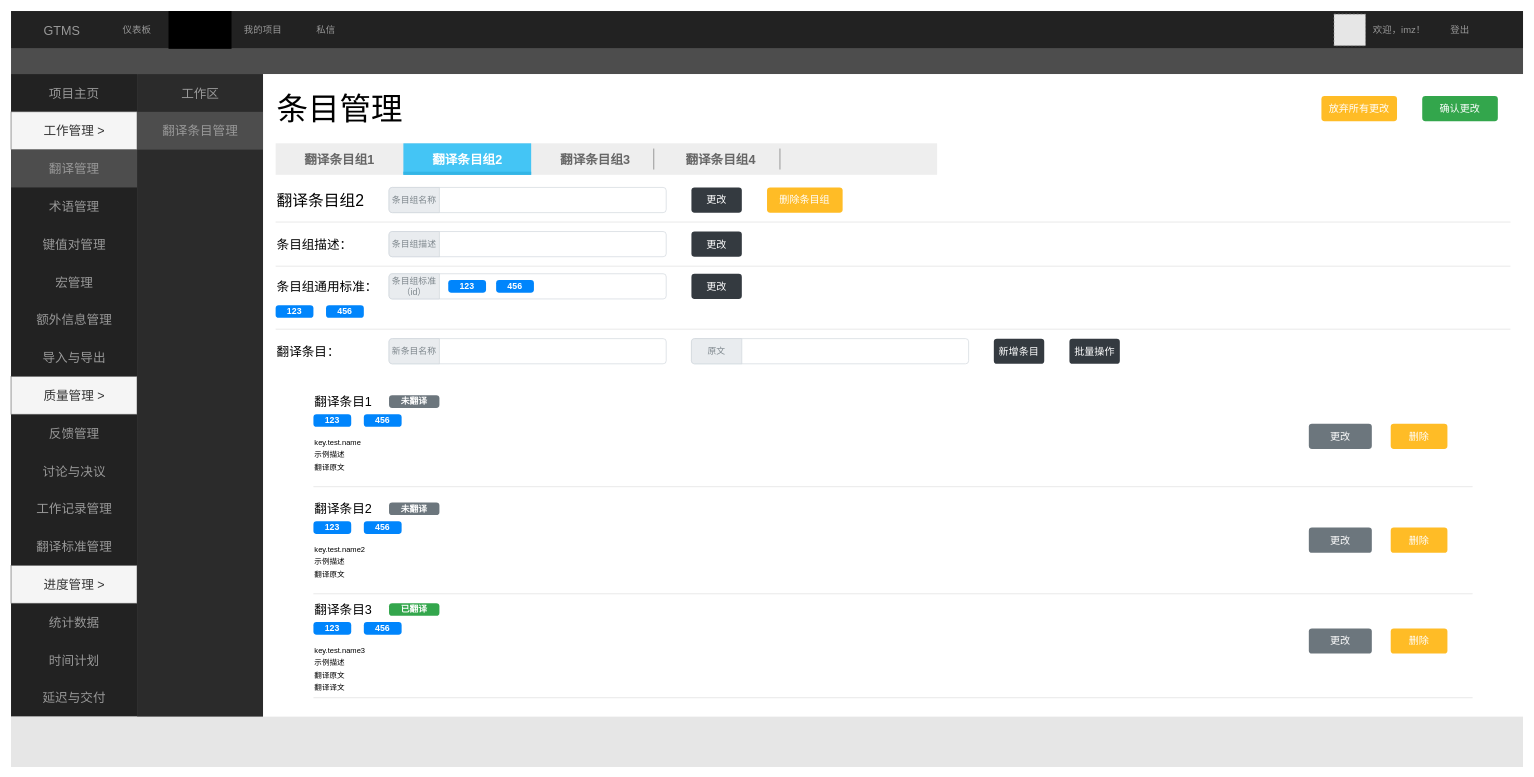
This 1534x777 diagram has some shape labels left out. Grey dashed boxes stand in for pictures. Here are the shapes that lost their labels. From the top down, the centre of each, then its label:
the point at 199,30: 项目浏览
the point at 767,61: 示例中文化项目01 / 翻译管理 / 工作区
the point at 858,159: 新建...
the point at 767,741: Yifan Xu 毕业设计 @天津工业大学
